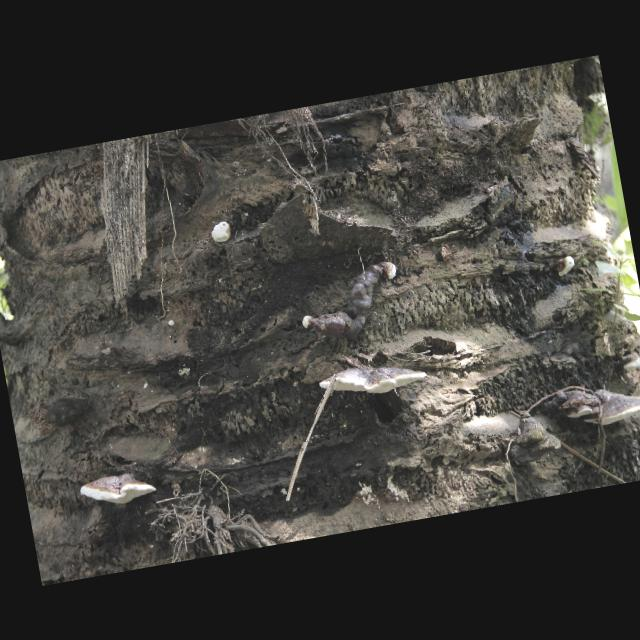ganoderma: (307, 263, 393, 345), (316, 355, 429, 405), (78, 469, 159, 513), (578, 380, 640, 430), (541, 384, 605, 425), (615, 353, 640, 374)
primordium: (209, 221, 234, 246), (554, 255, 578, 279), (380, 261, 399, 282), (301, 315, 315, 332), (167, 320, 176, 329)
